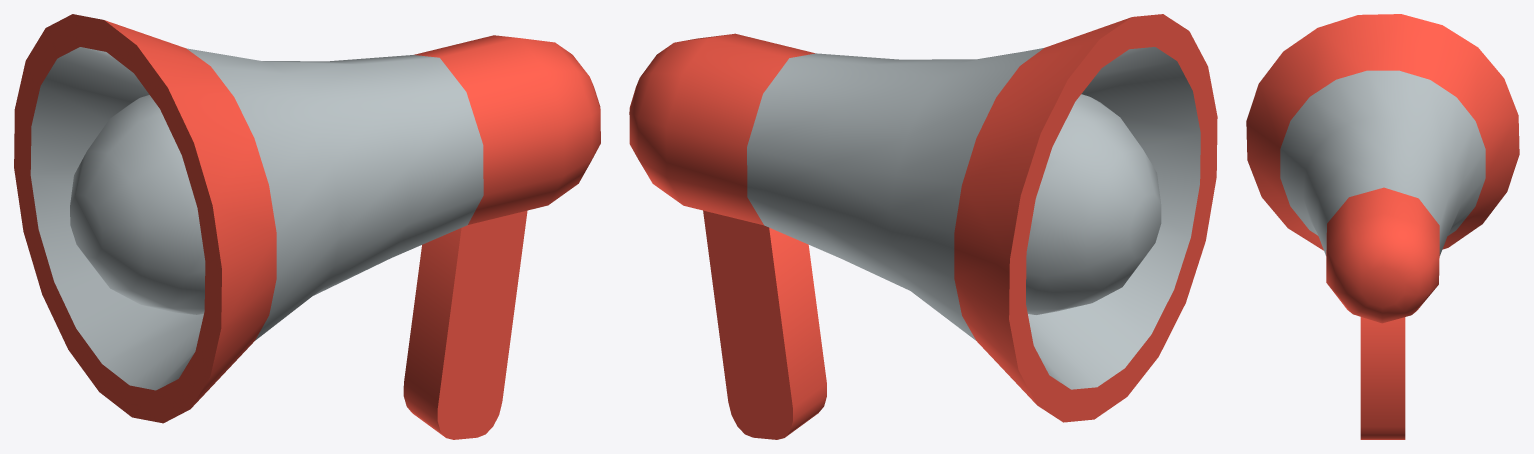
The model's file is Shout.fbx.
3 views of the same model, side by side, from view 1: azimuth 30°, elevation 25°; view 2: azimuth 150°, elevation 25°; view 3: azimuth 270°, elevation 25° (orthographic). The views are drawn at different scales.
Visible parts, largest first — view 1: Shout; view 2: Shout; view 3: Shout.
Boxes of the visible parts, bbox=[...] form: Shout: bbox=[14, 14, 600, 439]; Shout: bbox=[629, 14, 1217, 439]; Shout: bbox=[1246, 14, 1519, 439].
Size of the model in its own units: 0.8289 by 0.7611 by 0.5995.
